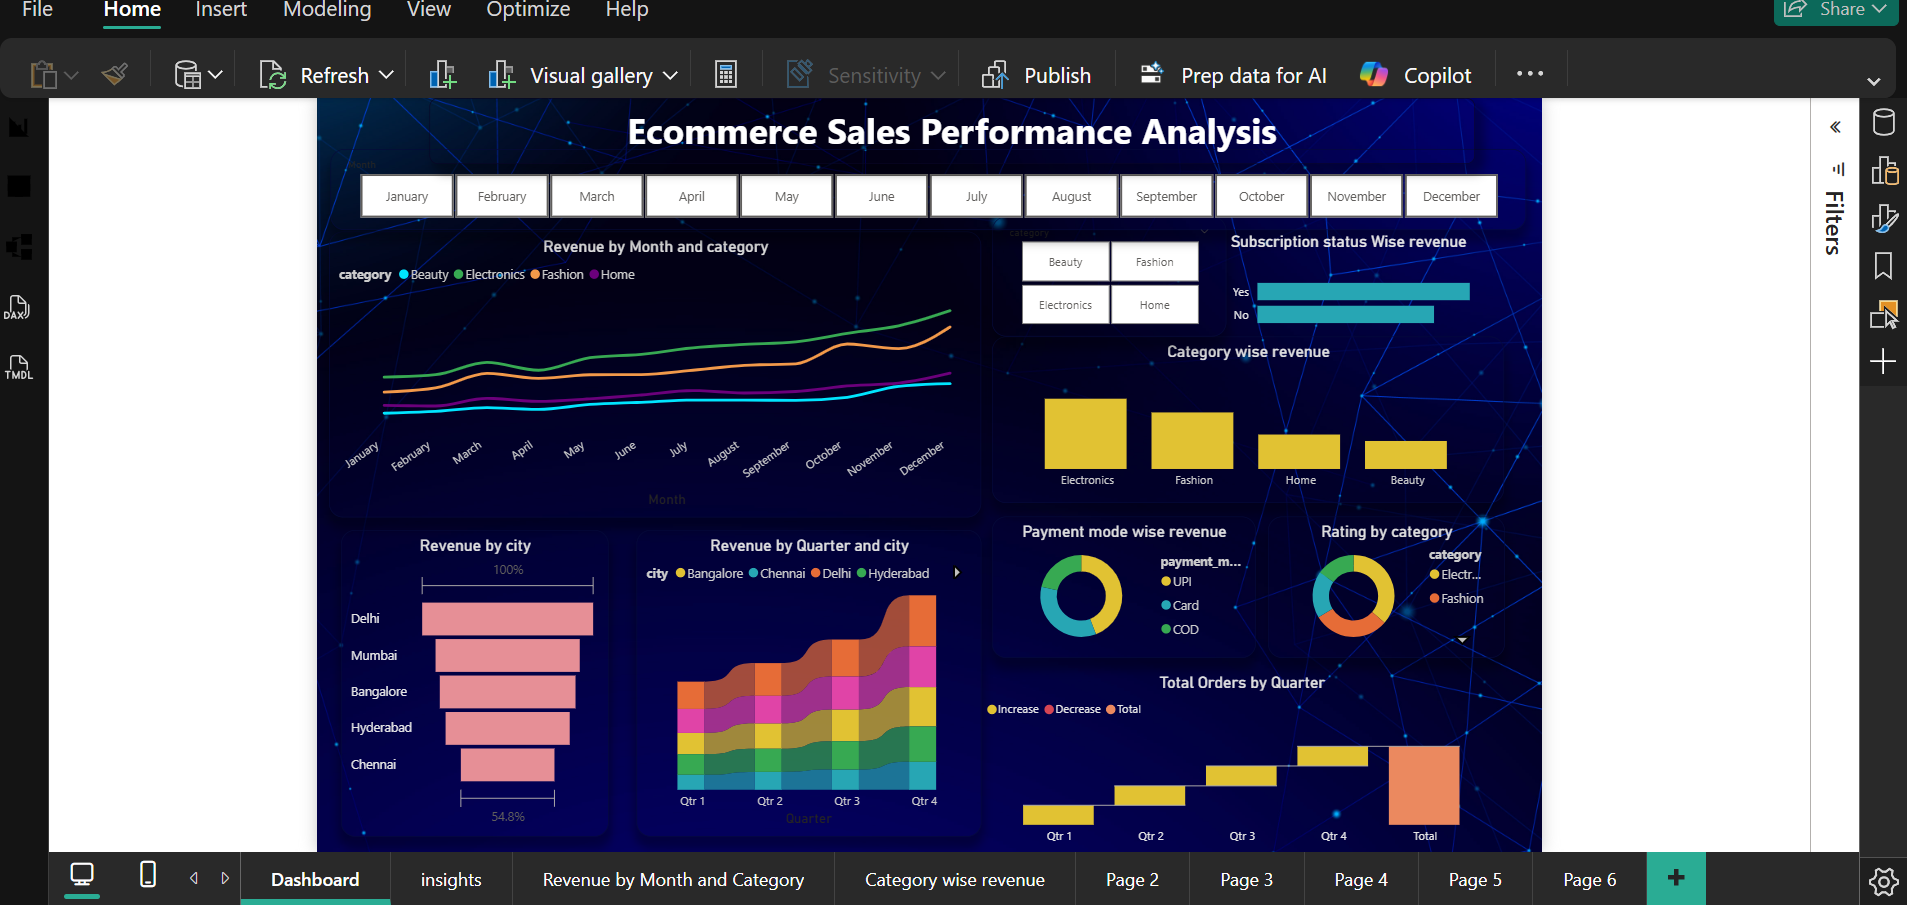

What the dashboard file says about the page in this screenshot:
{"tool":"powerbi","page":{"name":"Dashboard","canvas":[1300,800],"ordinal":0},"visuals":[{"type":"lineChart","title":"Revenue by Month and category","fields":{"Y":["Sum(orders.revenue)"],"Series":["products.category"],"Category":["orders.order_date.Variation.Date Hierarchy.Month"]},"box":[12.7,141,692.2,303.6],"z":0},{"type":"columnChart","title":"Category wise revenue","fields":{"Y":["Sum(orders.revenue)"],"Category":["products.category"]},"box":[715.8,253,543,176.9],"z":1000},{"type":"ribbonChart","title":"Revenue by Quarter and city","fields":{"Y":["Sum(orders.revenue)"],"Category":["orders.order_date.Variation.Date Hierarchy.Quarter"],"Series":["customers.city"]},"box":[339.4,458.7,366.1,325],"z":2000},{"type":"funnel","title":"Revenue by city","fields":{"Y":["Sum(orders.revenue)"],"Category":["customers.city"]},"box":[24.7,458.7,283.9,325],"z":3000},{"type":"donutChart","title":"Payment mode wise revenue","fields":{"Category":["customers.payment_mode"],"Y":["Sum(orders.revenue)"]},"box":[715.7,444.6,280.1,150],"z":4000},{"type":"donutChart","title":"Rating by category","fields":{"Y":["CountNonNull(products.rating)"],"Category":["products.category"]},"box":[1008.5,444.6,251.2,150],"z":5000},{"type":"waterfallChart","fields":{"Category":["products.category","orders.order_date.Variation.Date Hierarchy.Quarter","orders.order_date.Variation.Date Hierarchy.Month"],"Y":["orders.Total Orders"]},"box":[705.5,608.9,553.3,191.3],"z":6000},{"type":"slicer","fields":{"Values":["products.category"]},"box":[715.8,125.5,248.9,127.5],"z":7000},{"type":"slicer","fields":{"Values":["orders.order_date.Variation.Date Hierarchy.Month"]},"box":[14.3,54.1,1268.5,85.9],"z":8000},{"type":"barChart","title":"Subscription status Wise revenue","fields":{"Category":["customers.subscription_status"],"Y":["Sum(orders.revenue)"]},"box":[965.1,141,316.3,124.7],"z":8001},{"type":"textbox","box":[119.4,0,1109.3,70],"z":8002}]}

Visuals, with their boxes on the page's 1300x800 design canvas (x1, y1, x2, y2). These are canvas units, not pixel positions in the 1907x905 screenshot, which may show the page scaled, cropped or inside an application window:
"Revenue by Month and category" lineChart: <bbox>13, 141, 705, 445</bbox>
"Category wise revenue" columnChart: <bbox>716, 253, 1259, 430</bbox>
"Revenue by Quarter and city" ribbonChart: <bbox>339, 459, 706, 784</bbox>
"Revenue by city" funnel: <bbox>25, 459, 309, 784</bbox>
"Payment mode wise revenue" donutChart: <bbox>716, 445, 996, 595</bbox>
"Rating by category" donutChart: <bbox>1008, 445, 1260, 595</bbox>
waterfallChart - products.category x orders.order_date.Variation.Date Hierarchy.Quarter: <bbox>706, 609, 1259, 800</bbox>
slicer - products.category: <bbox>716, 126, 965, 253</bbox>
slicer - orders.order_date.Variation.Date Hierarchy.Month: <bbox>14, 54, 1283, 140</bbox>
"Subscription status Wise revenue" barChart: <bbox>965, 141, 1281, 266</bbox>
textbox: <bbox>119, 0, 1229, 70</bbox>
